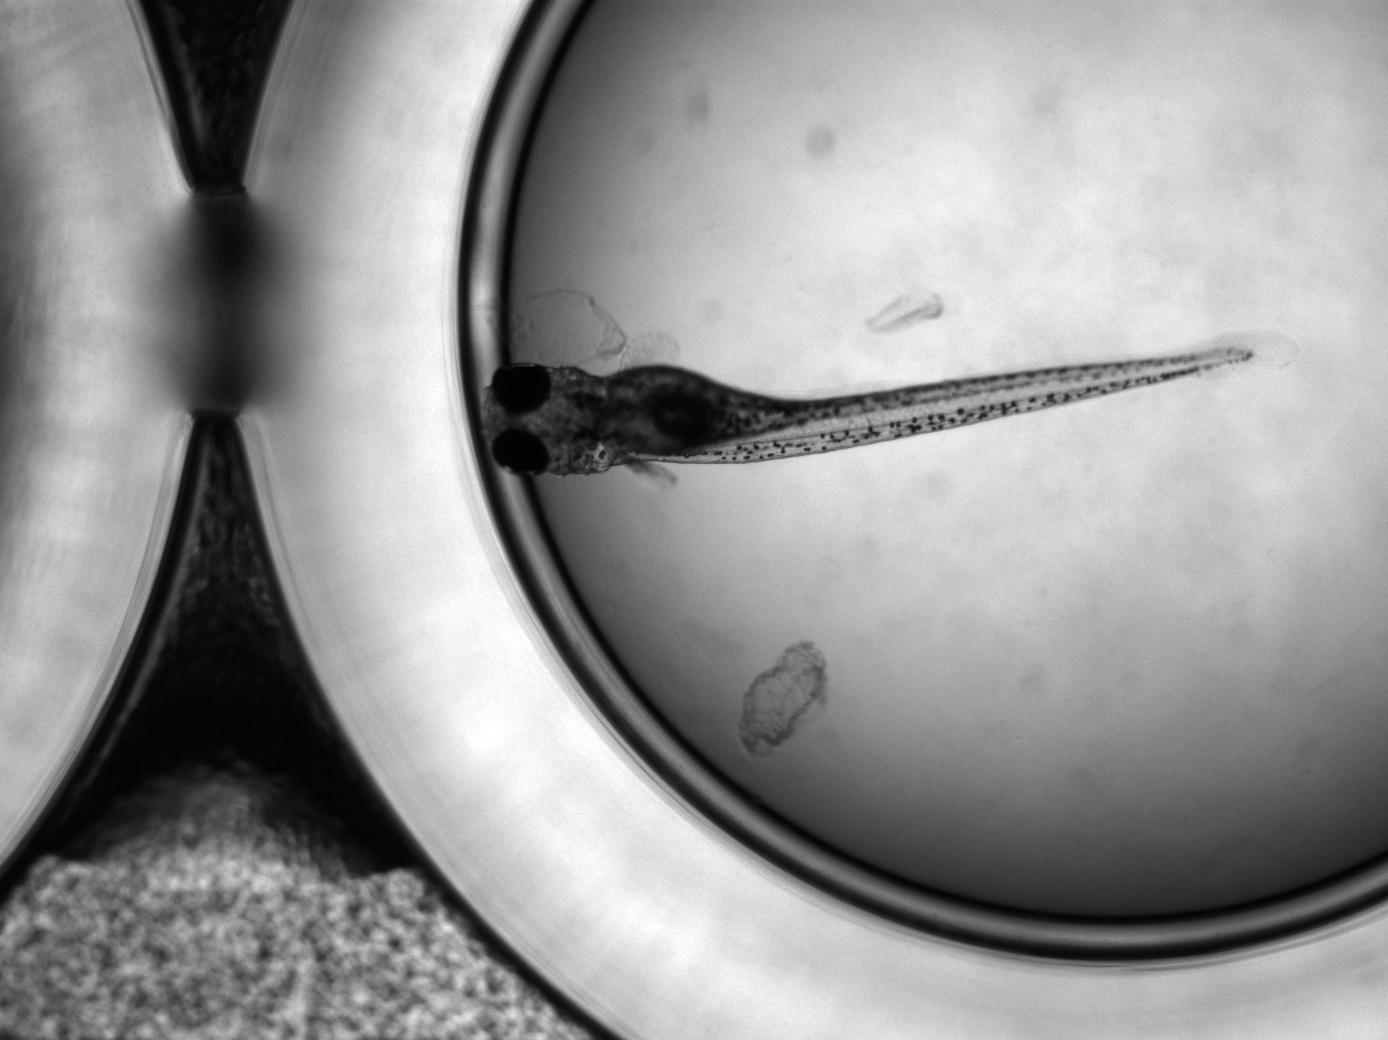debris: (737, 640, 832, 757), (515, 289, 627, 357), (867, 282, 947, 334)
embryo: (481, 344, 1258, 476)
eye: (491, 362, 551, 415), (493, 428, 551, 476)
yolksac: (602, 365, 783, 454)
